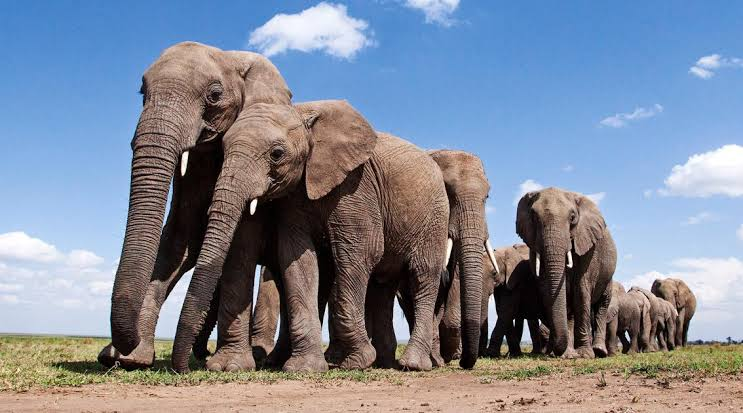elephant: (173, 101, 448, 371), (99, 42, 290, 367), (516, 188, 616, 357), (428, 150, 496, 365), (485, 244, 543, 356), (606, 281, 650, 355), (651, 278, 695, 346), (250, 267, 279, 360), (629, 286, 662, 351), (626, 289, 652, 351), (656, 299, 677, 350)
